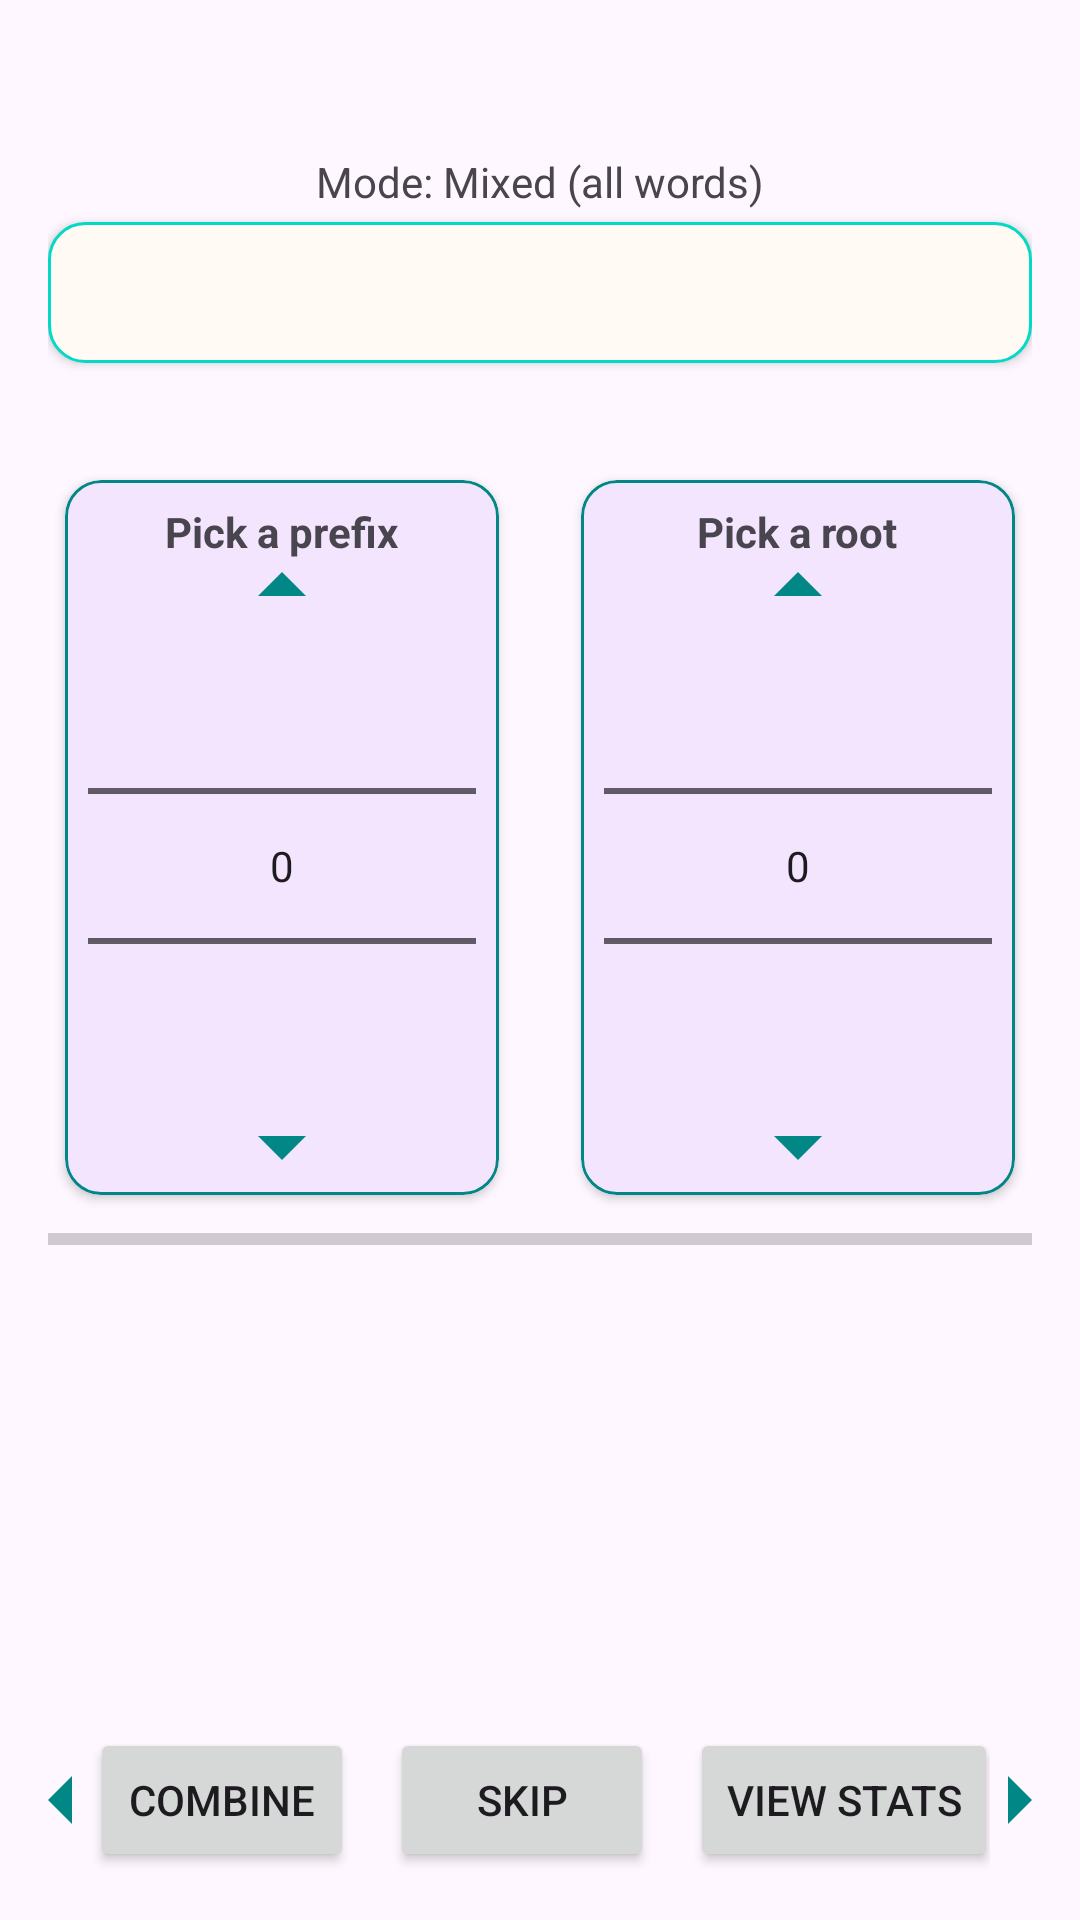

Named icons in this screenshot (1080px×1920px) and their bounding boxes, (x1, y1, x2, y2):
triangle down: (258, 1136, 306, 1160), (774, 1136, 822, 1160)
triangle left: (48, 1776, 72, 1824)
triangle right: (1008, 1776, 1032, 1824)
triangle up: (258, 572, 306, 596), (774, 572, 822, 596)
